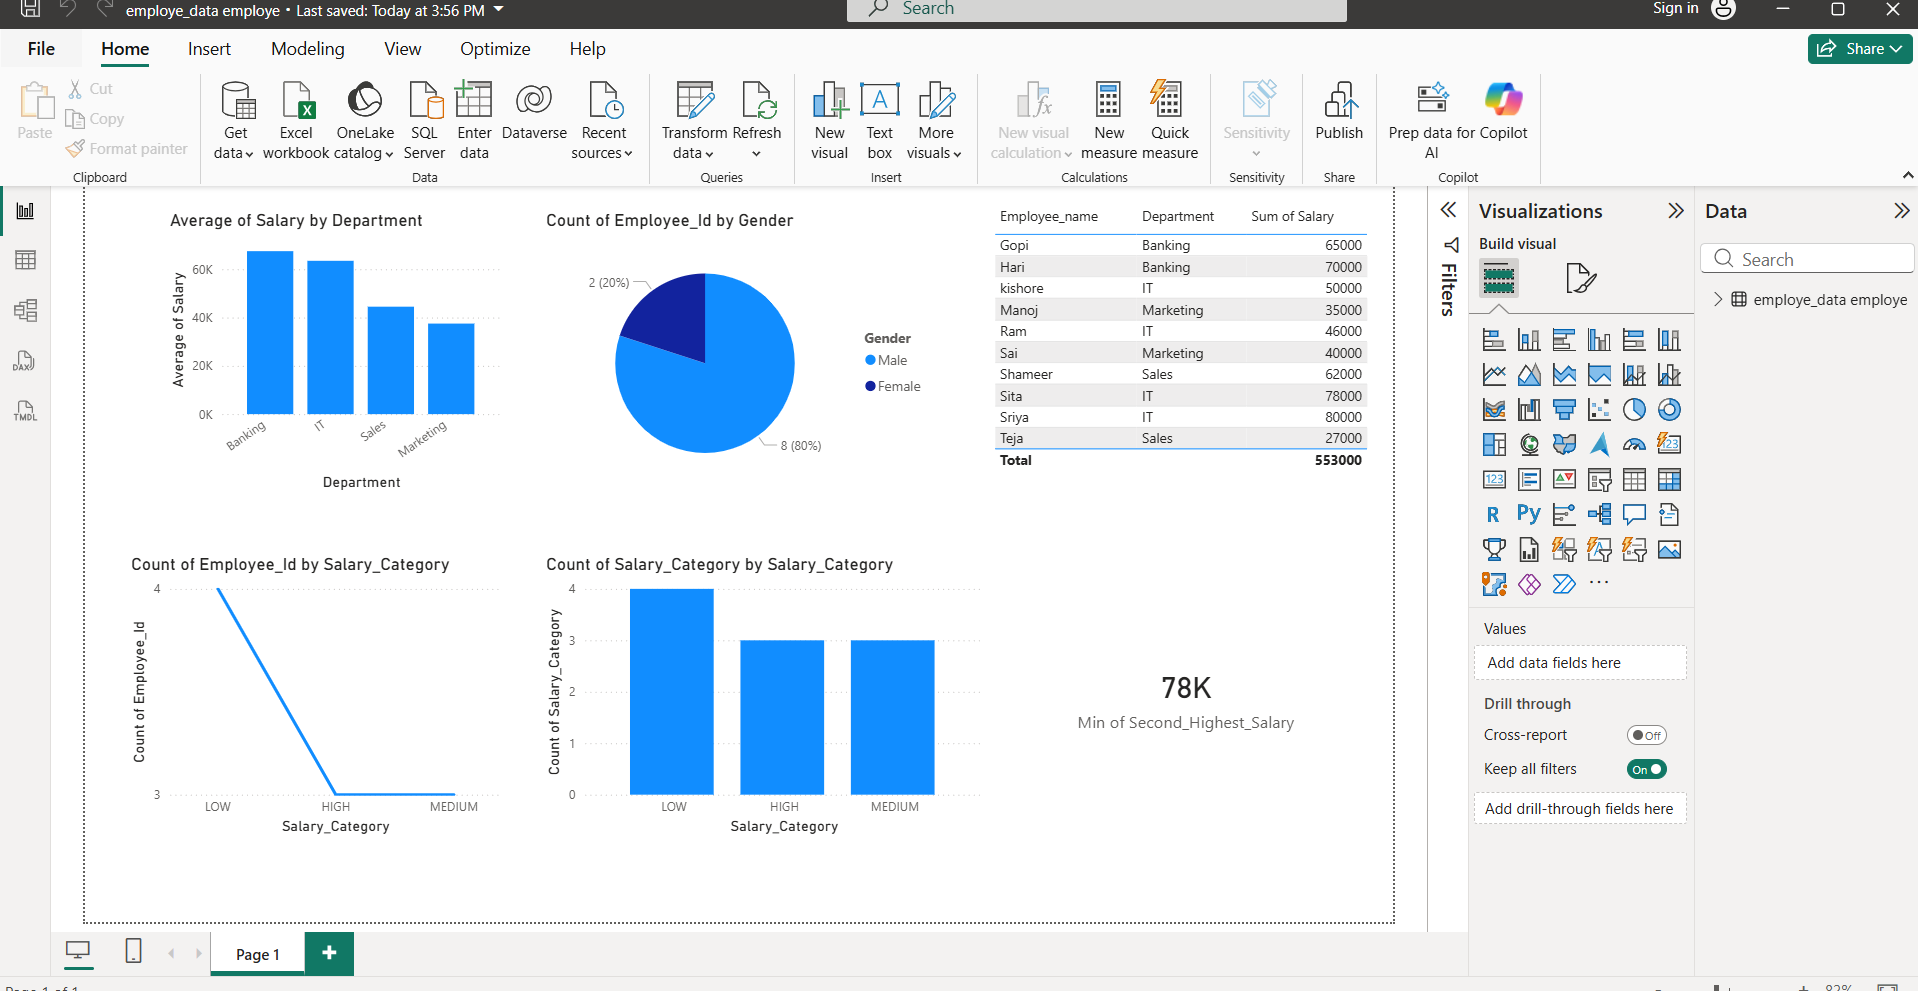

This screenshot's page, from the dashboard's own definition file:
{"tool":"powerbi","page":{"name":"Page 1","canvas":[1280,720],"ordinal":0},"visuals":[{"type":"clusteredColumnChart","fields":{"Category":["employe_data employe.Department"],"Y":["Avg(employe_data employe.Salary)"]},"box":[78.2,23.3,333.4,279.9],"z":0},{"type":"pieChart","fields":{"Category":["employe_data employe.Gender"],"Y":["CountNonNull(employe_data employe.Employee_Id)"]},"box":[446,23.3,387,279.9],"z":1000},{"type":"lineChart","fields":{"Category":["employe_data employe.Salary_Category"],"Y":["CountNonNull(employe_data employe.Employee_Id)"]},"box":[39.8,359.5,371.9,279.9],"z":2000},{"type":"columnChart","fields":{"Category":["employe_data employe.Salary_Category"],"Y":["CountNonNull(employe_data employe.Salary_Category)"]},"box":[446,359.5,437.7,279.9],"z":3000},{"type":"tableEx","fields":{"Values":["employe_data employe.Employee_name","employe_data employe.Department","Sum(employe_data employe.Salary)"]},"box":[883.7,13.7,385.6,279.9],"z":4000},{"type":"card","fields":{"Values":["Min(employe_data employe.Second_Highest_Salary)"]},"box":[884,360,386,280],"z":5000}]}

Visuals, with their boxes on the page's 1280x720 design canvas (x1, y1, x2, y2). These are canvas units, not pixel positions in the 1918x991 screenshot, which may show the page scaled, cropped or inside an application window:
clusteredColumnChart - employe_data employe.Department x Avg(employe_data employe.Salary): bbox(78, 23, 412, 303)
pieChart - employe_data employe.Gender x CountNonNull(employe_data employe.Employee_Id): bbox(446, 23, 833, 303)
lineChart - employe_data employe.Salary_Category x CountNonNull(employe_data employe.Employee_Id): bbox(40, 360, 412, 639)
columnChart - employe_data employe.Salary_Category x CountNonNull(employe_data employe.Salary_Category): bbox(446, 360, 884, 639)
tableEx - employe_data employe.Employee_name x employe_data employe.Department: bbox(884, 14, 1269, 294)
card - Min(employe_data employe.Second_Highest_Salary): bbox(884, 360, 1270, 640)
